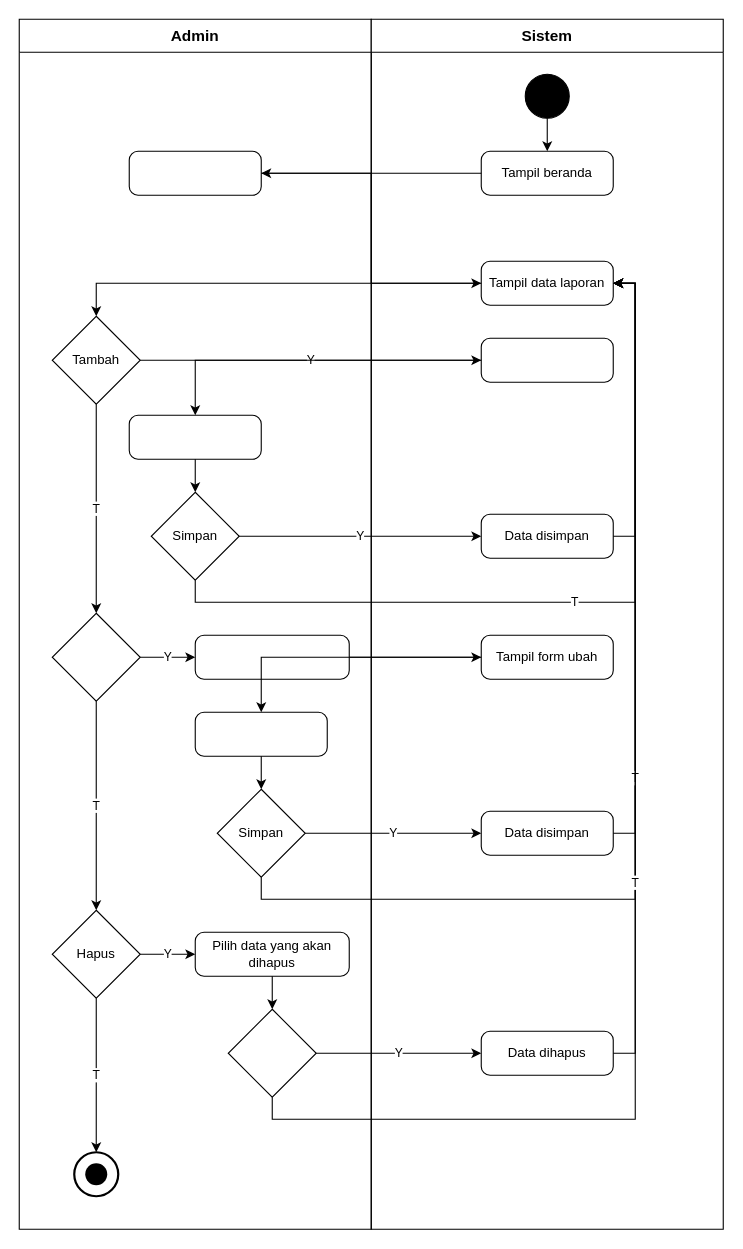
This 743x1249 diagram has some shape labels left out. The centre of each missing label's shape, as x and y in pixels:
Pilih data yang di ubah: [271,656]
Pilih menu laporan: [194,172]
Tambah data: [194,436]
Tampil form tambah: [546,359]
Ubah: [95,656]
Ubah data: [260,733]
yakin hapus: [271,1052]
